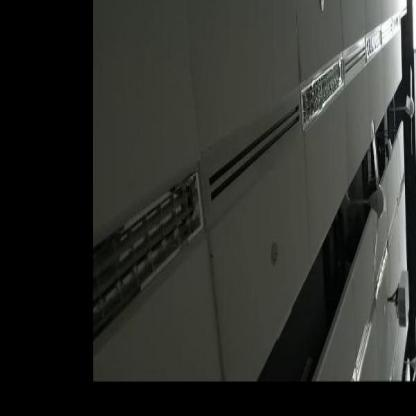light_off: (94, 149, 206, 340), (289, 46, 354, 130)
